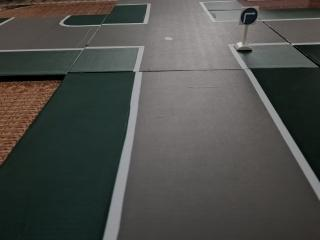right: (238, 0, 261, 32)
